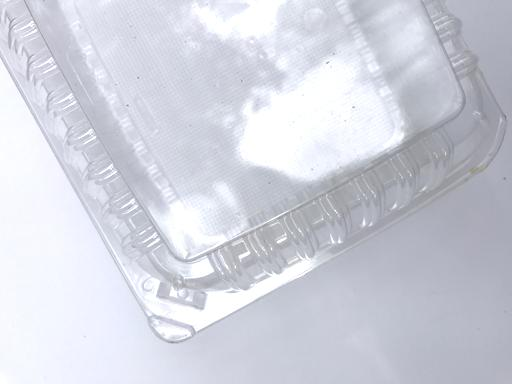bottle: (0, 154, 512, 178)
